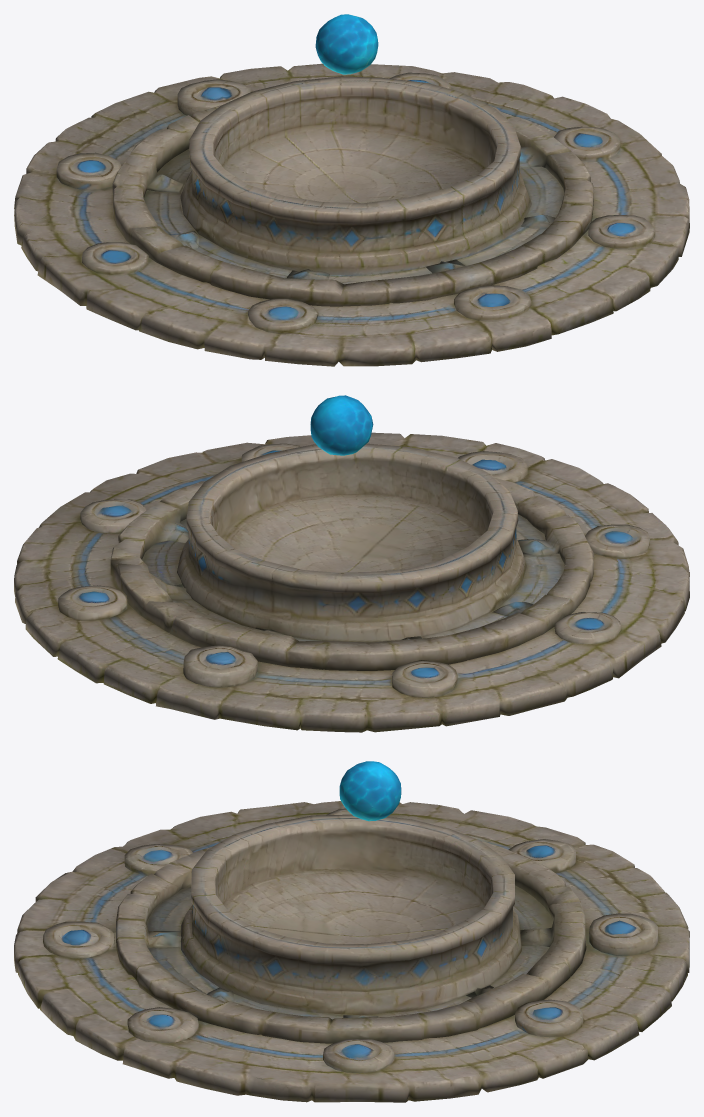
The model's file is upgrade_fount.glb.
The picture shows the model from 3 angles, top to bottom: view 1: azimuth 30°, elevation 25°; view 2: azimuth 150°, elevation 25°; view 3: azimuth 270°, elevation 25°; orthographic projection.
Visible parts, largest first — view 1: tripo_node_c592055d-4d10-4547-9b44-404e8152a821; view 2: tripo_node_c592055d-4d10-4547-9b44-404e8152a821; view 3: tripo_node_c592055d-4d10-4547-9b44-404e8152a821.
Boxes of the visible parts, x1,y1,x2,y2 form: tripo_node_c592055d-4d10-4547-9b44-404e8152a821: (14, 14, 689, 366); tripo_node_c592055d-4d10-4547-9b44-404e8152a821: (14, 395, 689, 732); tripo_node_c592055d-4d10-4547-9b44-404e8152a821: (14, 761, 689, 1102).
Size of the model in its own units: 0.998 by 0.3527 by 1.01.
1 material, 1 textured.
